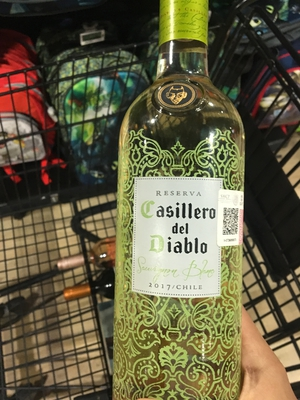casillero del diablo sauvignon blanc: (100, 17, 262, 400)
